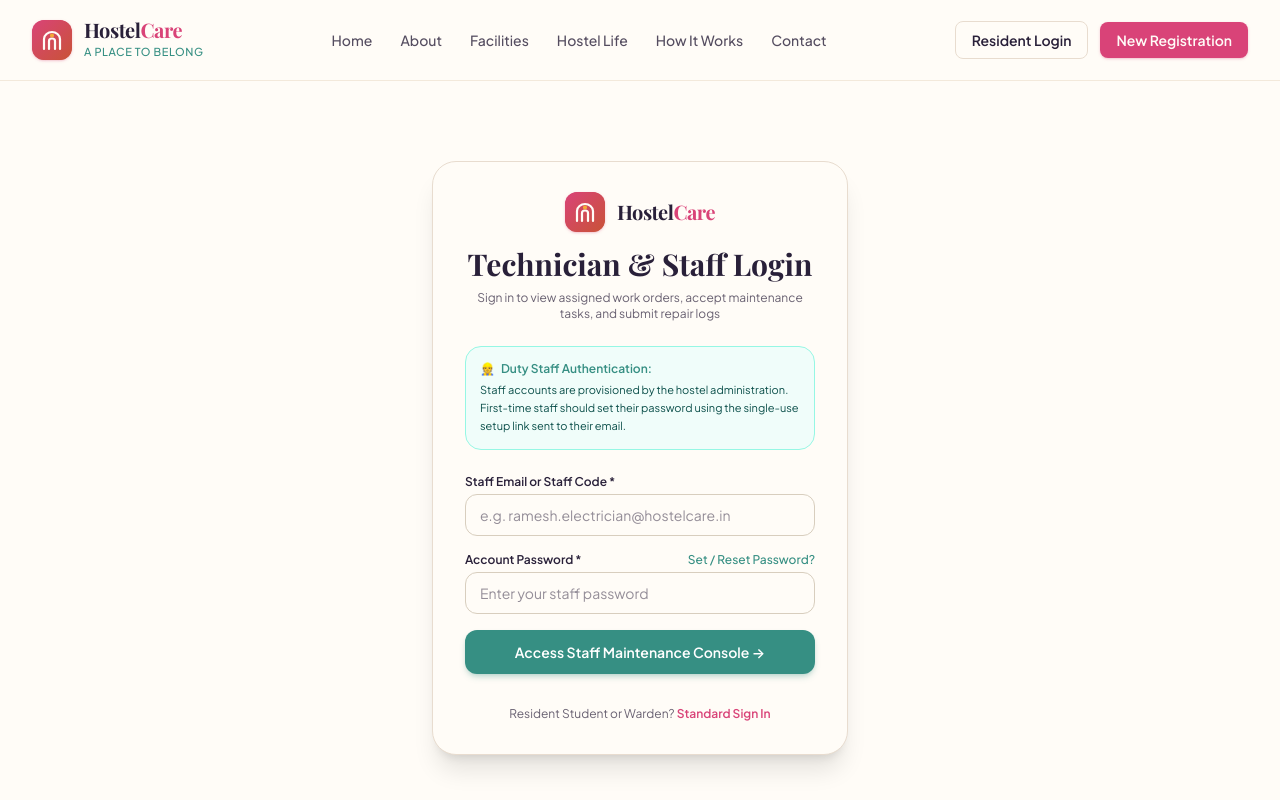
it: HostelCare Multi-Page Application & Phase 3C Authentication › handles dedicated staff login and dashboard access
The width and height of the screenshot is (1280, 800).
Expected: the heading "Technician & Staff Login" is shown, [465,238,815,282]
Type "ramesh.electrician@hostelcare.in" into the field labelled "Staff Email or Staff Code *" at (640, 515), box [465,494,815,536]
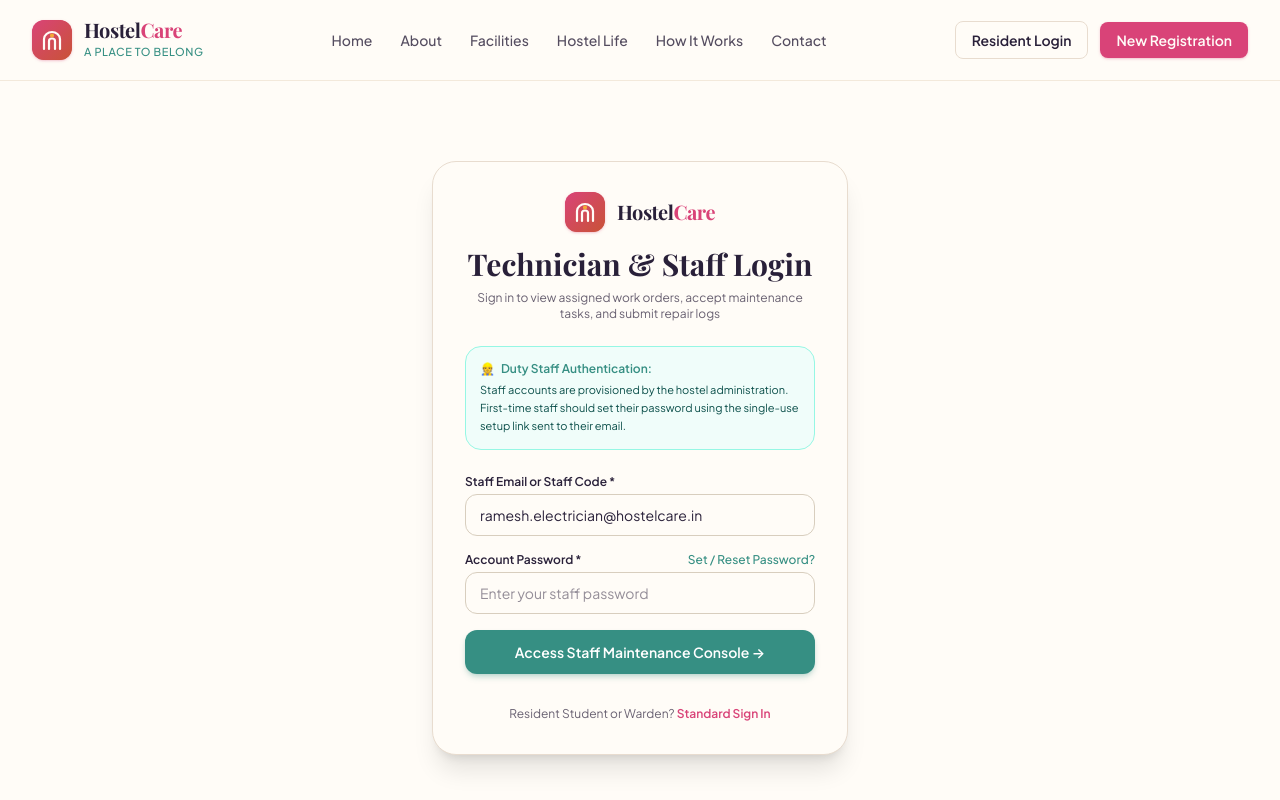
Type "StaffPass123!" into the password field labelled "Account Password *" at (640, 593), box [465,572,815,614]
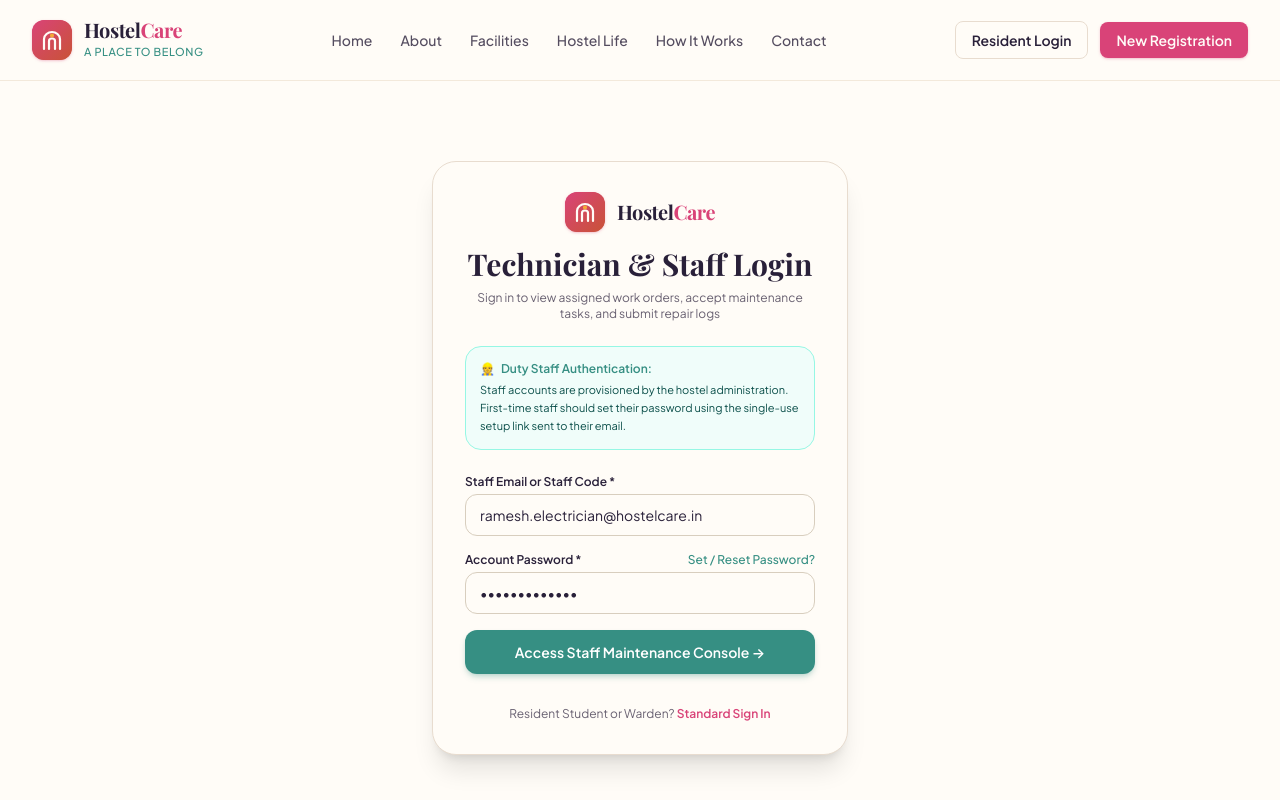
Click the button "Access Staff Maintenance Console →" at (640, 652), box [465,630,815,674]
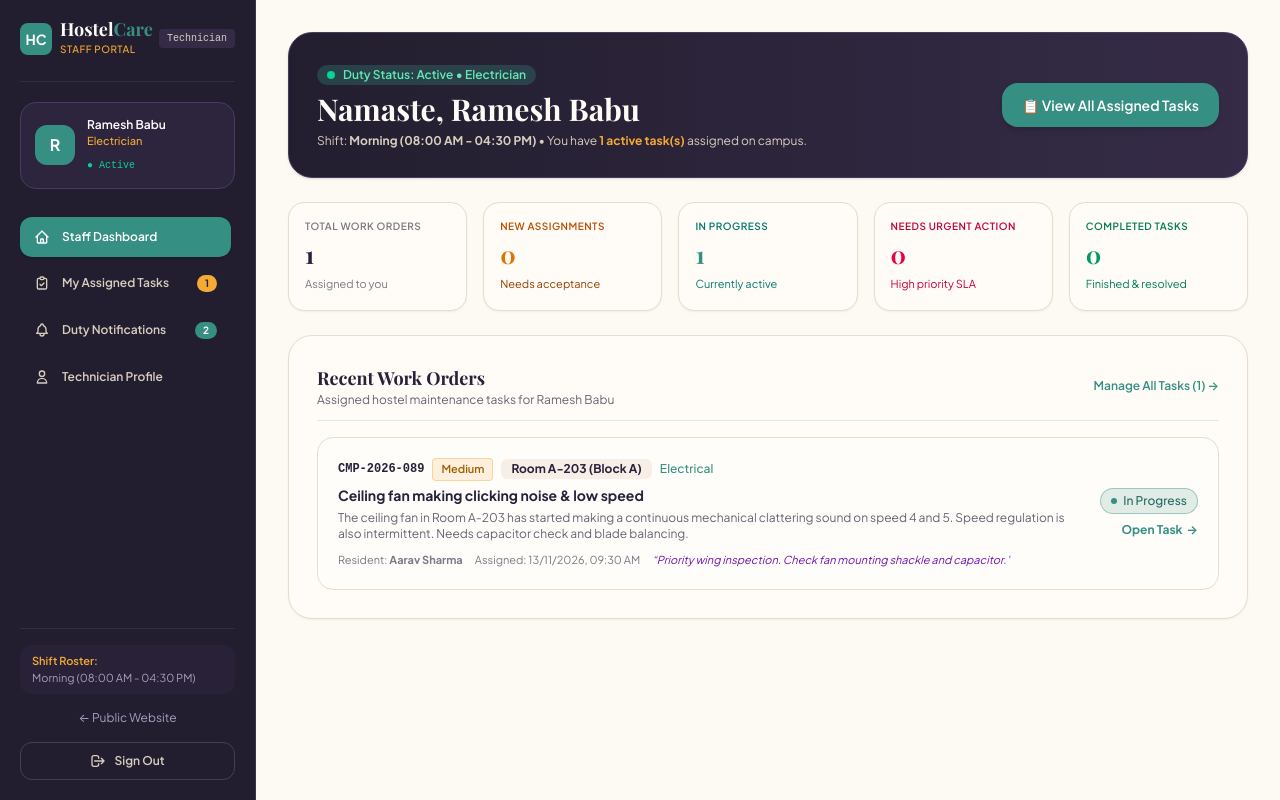
Result: the heading "Namaste, Ramesh Babu" is shown at [317,89,640,129]
Result: the text "Total Work Orders" is shown at [305,220,421,232]
Result: the text "Completed Tasks" is shown at [1086,220,1188,232]
